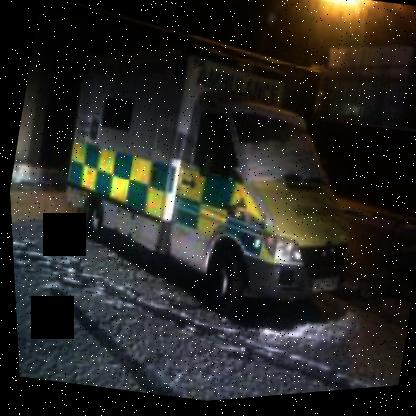emergency: (10, 8, 412, 374)
